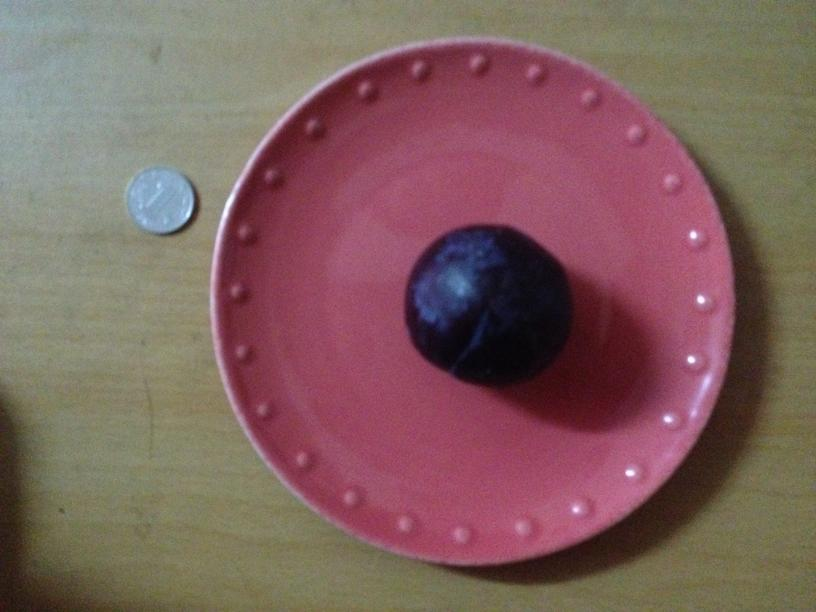coin: (129, 169, 193, 237)
plum: (406, 224, 572, 384)
